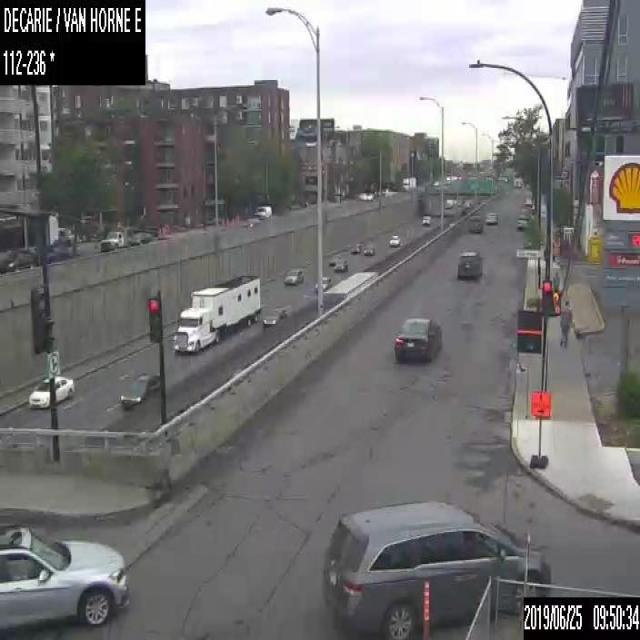construction: (529, 390, 551, 466), (420, 580, 428, 639)
pedestrian: (557, 298, 573, 351), (552, 270, 560, 290)
vehicle: (322, 497, 553, 639), (0, 520, 130, 631), (170, 274, 261, 354), (322, 270, 378, 311), (392, 316, 441, 361), (120, 367, 160, 408), (30, 375, 74, 408), (98, 229, 151, 252), (0, 242, 35, 272), (456, 250, 482, 278), (45, 238, 71, 263), (262, 306, 286, 326), (56, 226, 74, 245), (284, 267, 302, 285), (468, 213, 482, 232), (314, 276, 330, 292), (516, 212, 530, 230), (253, 205, 271, 217), (402, 175, 415, 190), (333, 258, 347, 270), (388, 233, 400, 246), (486, 211, 497, 225), (512, 175, 522, 188), (363, 243, 374, 254), (329, 254, 340, 265), (350, 242, 361, 253), (422, 213, 430, 225)
